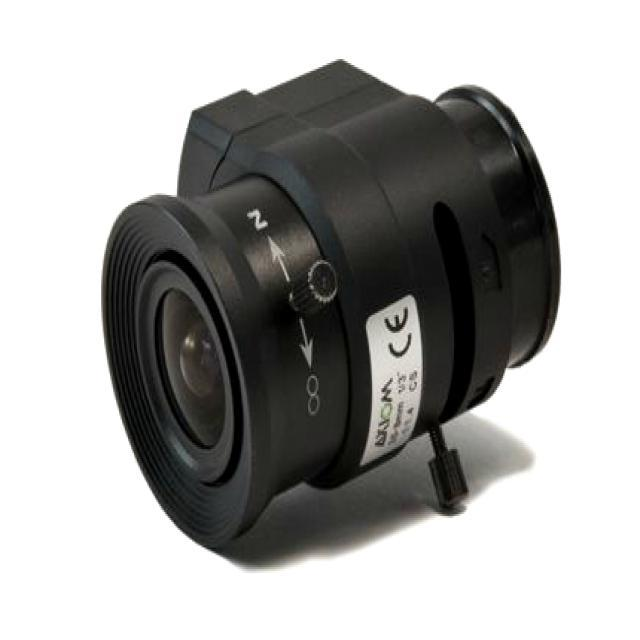hidden camera: (97, 228, 306, 528)
